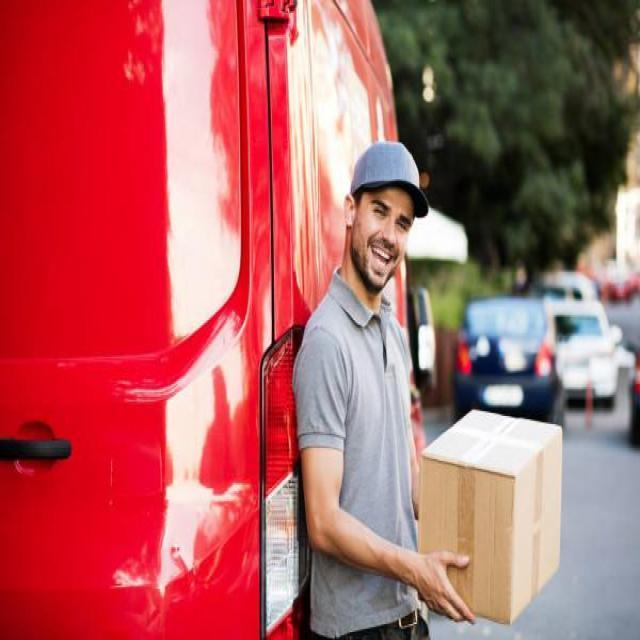box: (414, 399, 574, 635)
